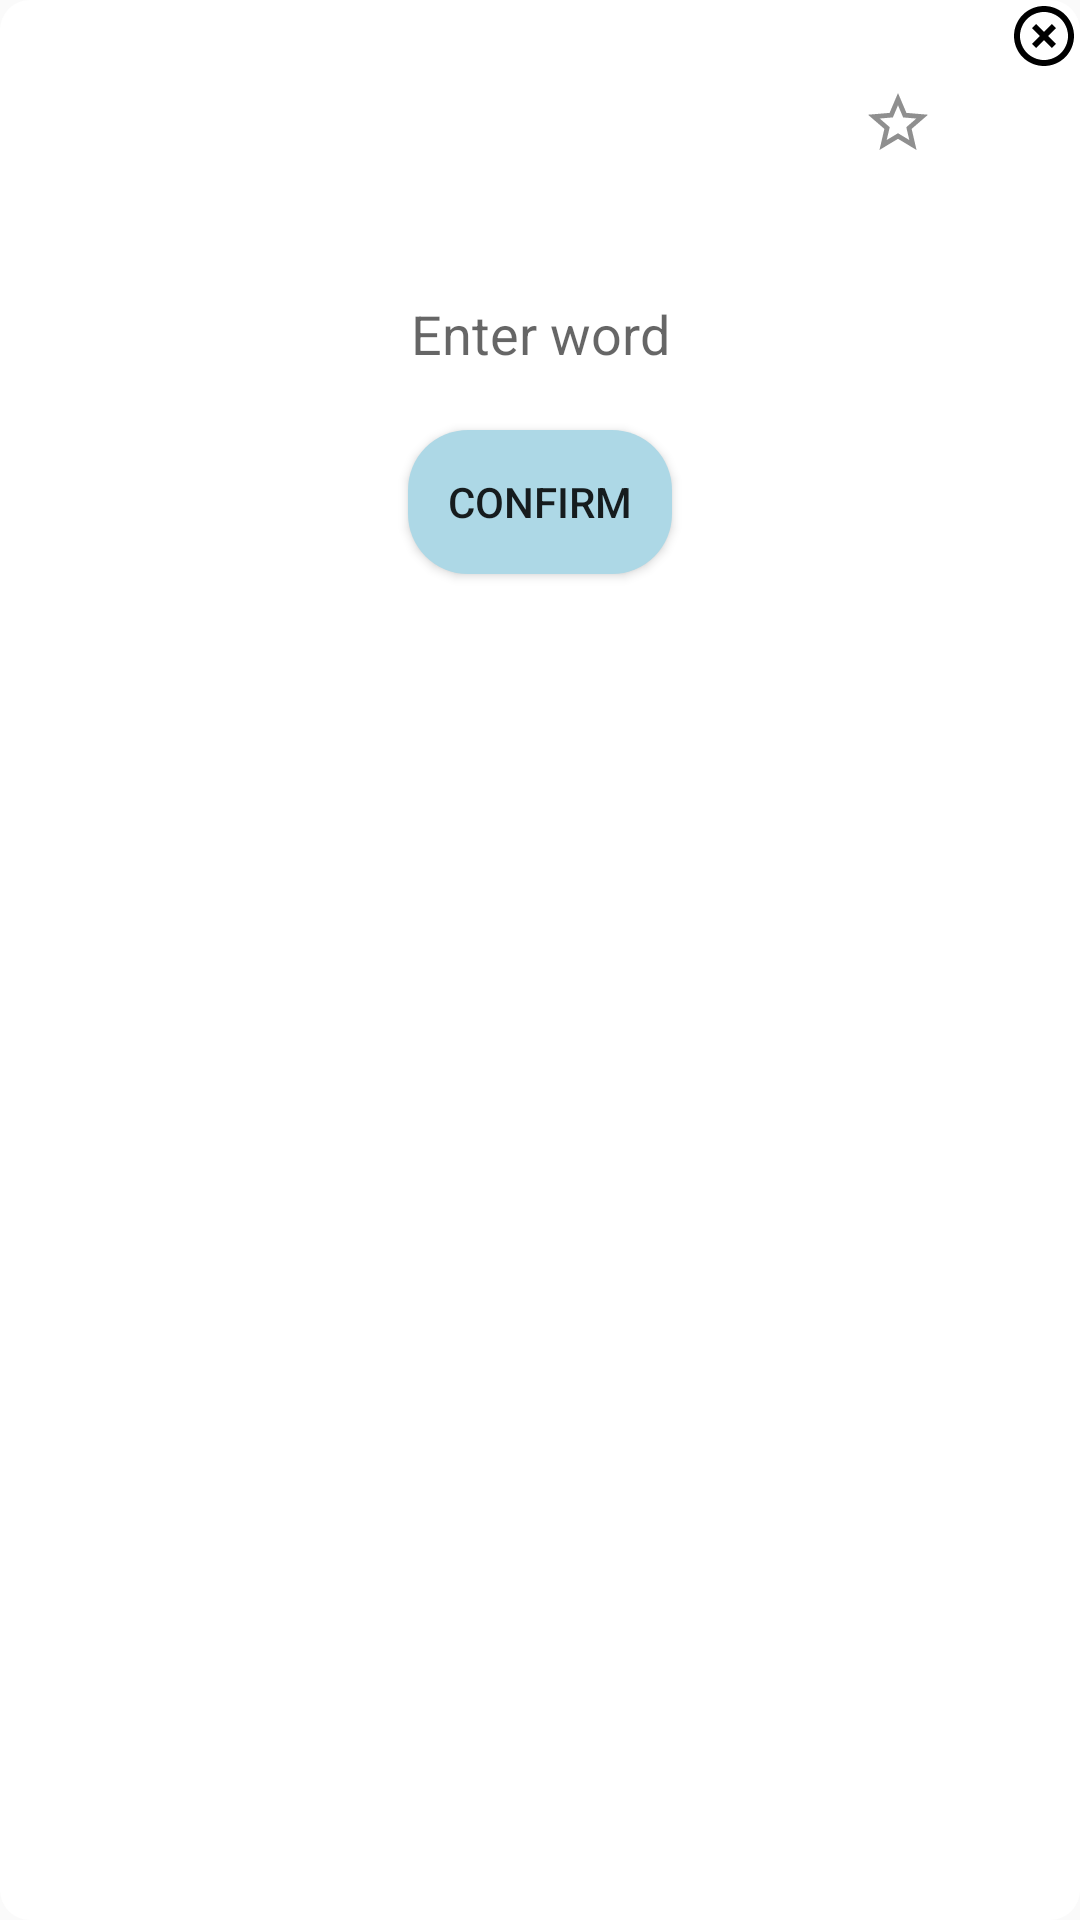

Where icons sit on this 1080x1920 app screen, as box=[x1, y1, x2, y2]:
highlight off: box=[1014, 6, 1074, 66]
star: box=[869, 94, 927, 150]
